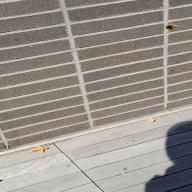Bee: (164, 20, 183, 32)
